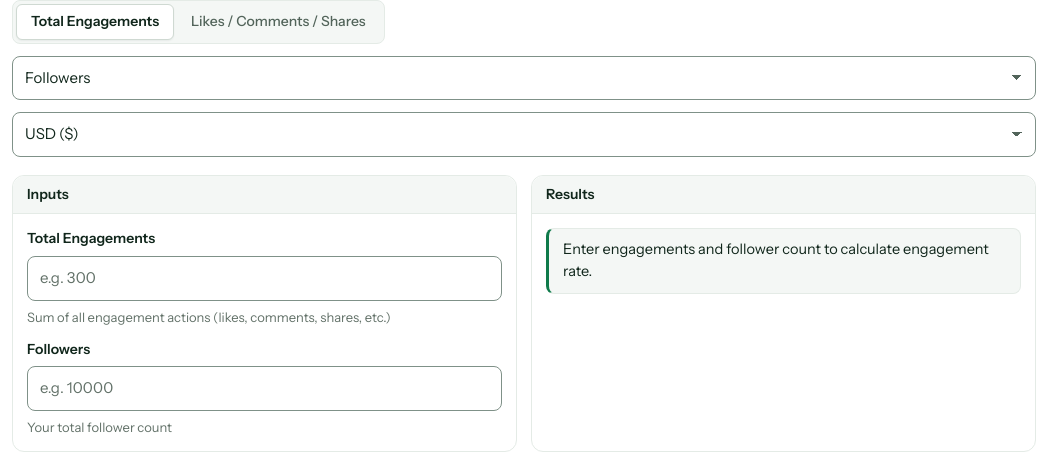
it: EngagementRateCalculator › shows error when audience size is zero
In the number field with placeholder "e.g. 300": (264, 278) x1=27 y1=256 x2=502 y2=301, type "300"
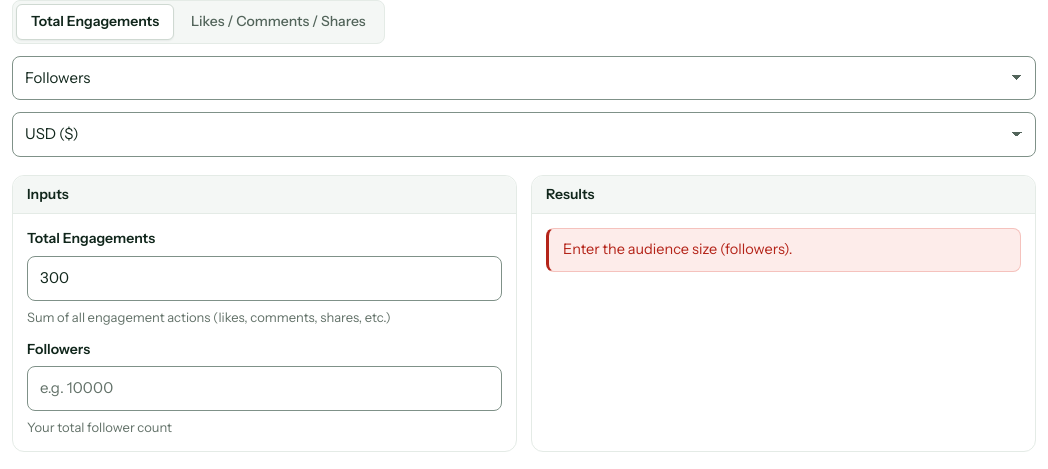
In the number field with placeholder "e.g. 10000": (264, 389) x1=27 y1=366 x2=502 y2=411, type "0"
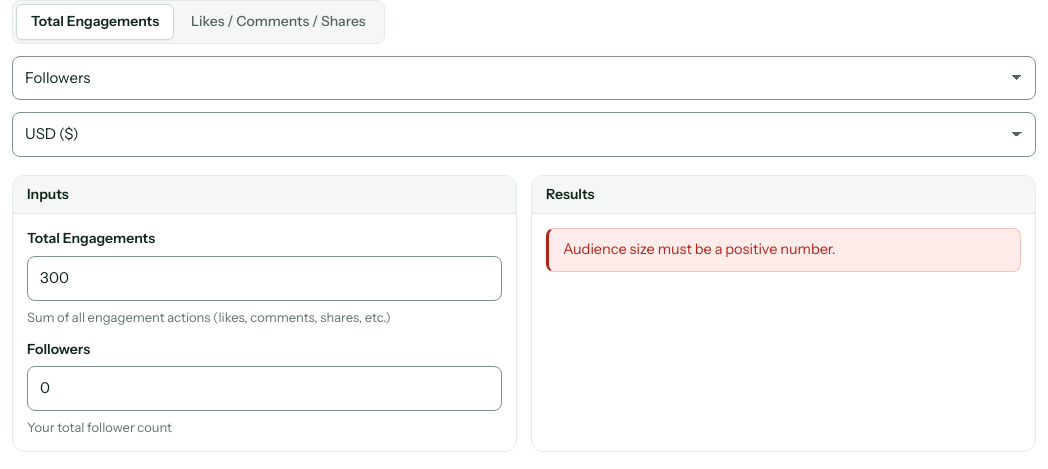
Result: the text "Audience size must be a positive number." is shown at x1=546 y1=228 x2=1021 y2=272
